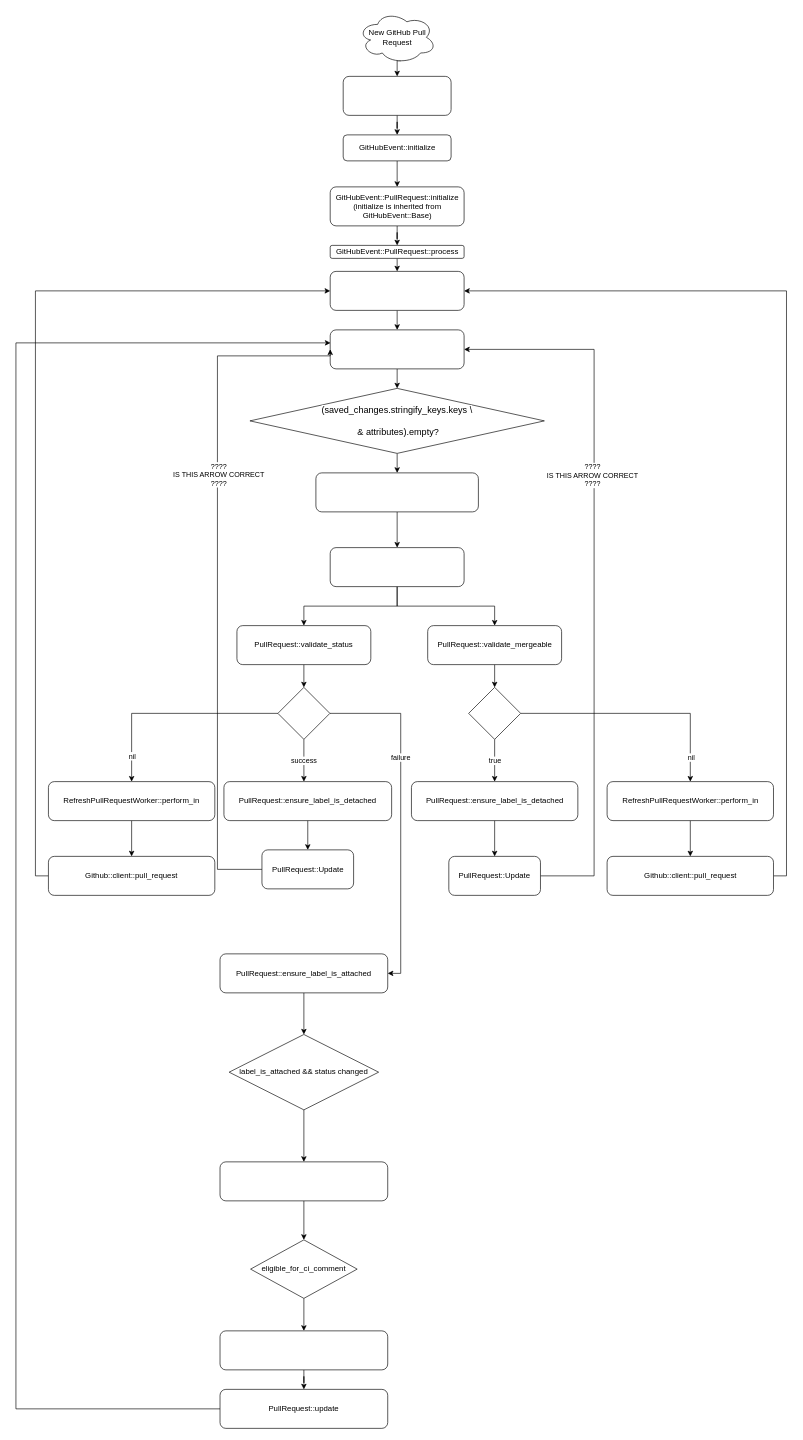
Image size: 803x1440. Some labels were removed from this diagram. The centre of each missing label's shape, as x and y in pixels:
"IncomingController::github" belongs at pixel 397 95.
"mergeable" belongs at pixel 494 713.
"PullRequest::add_ci_comment" belongs at pixel 303 1181.
"PullRequest::add_comment" belongs at pixel 303 1350.
"PullRequest::queue_validation" belongs at pixel 397 349.
"PullRequest::update_with_github" belongs at pixel 397 290.
"PullRequest::validate" belongs at pixel 397 567.
"status" belongs at pixel 303 713.
"ValidatePullRequestWoker::perform_async" belongs at pixel 396 492.
